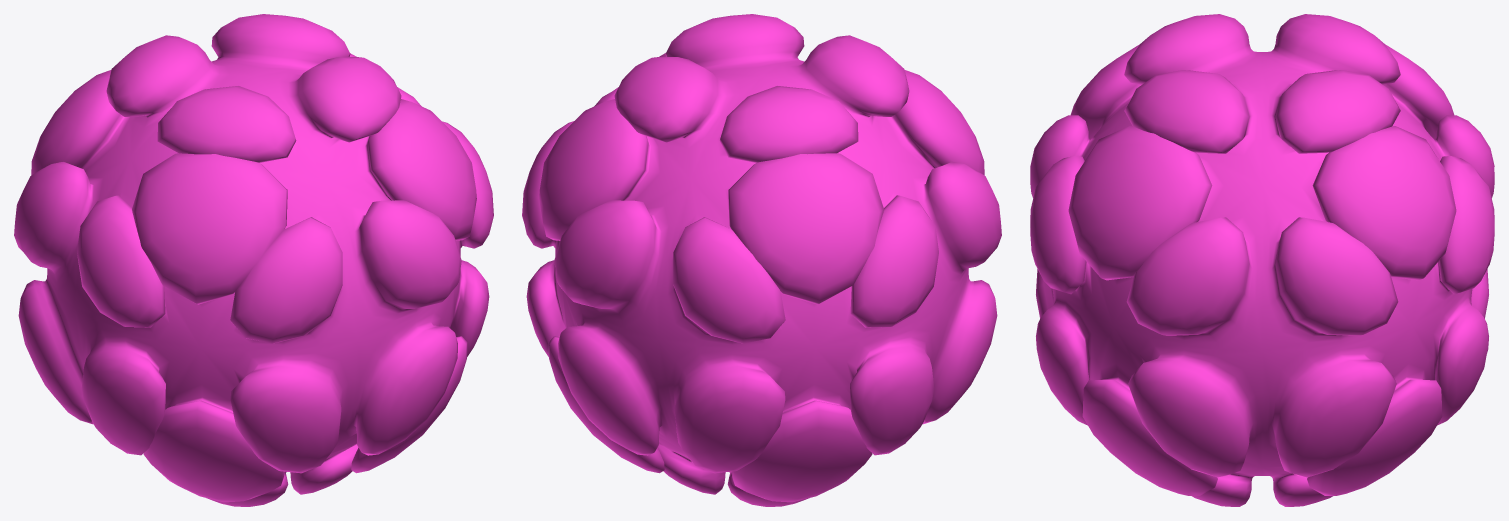
The model's file is huppetSeed.FBX.
The picture shows the model from 3 angles, left to right: view 1: azimuth 30°, elevation 25°; view 2: azimuth 150°, elevation 25°; view 3: azimuth 270°, elevation 25°; orthographic projection. The views are drawn at different scales.
Parts seen in each view (by area): view 1: Huppet Seed; view 2: Huppet Seed; view 3: Huppet Seed.
Part boxes in pixels (<box>): Huppet Seed: <box>14,14,493,506</box>; Huppet Seed: <box>522,14,1001,506</box>; Huppet Seed: <box>1030,14,1494,506</box>.
Size of the model in its own units: 6.32 by 6.55 by 6.32.
